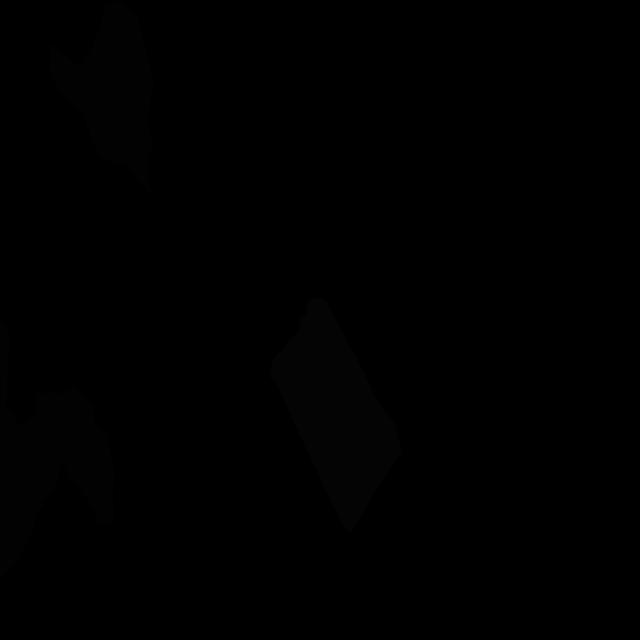cardboard: (49, 0, 154, 197), (0, 320, 49, 580), (30, 386, 114, 524)
soft_plastic: (269, 298, 402, 534)
